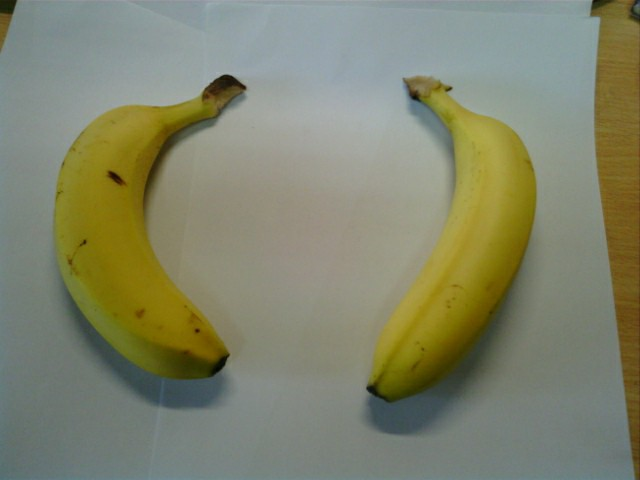fresh_banana: (366, 76, 539, 399)
normal_banana: (55, 82, 229, 377)
